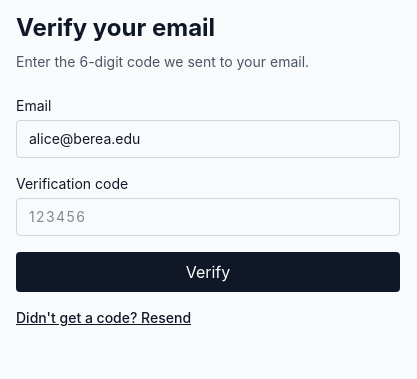
VerifyEmailPage › shows an error for an invalid code without navigating
In the field labelled "Verification code": (208, 217) [16,198,400,236], type "000000"
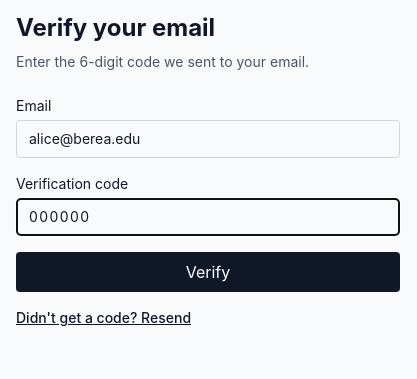
Click the button "Verify": (208, 272) [16,252,400,292]
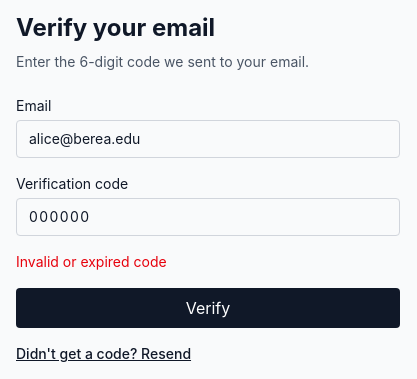
Now the text "Invalid or expired code" is shown, box [16,253,167,270]
